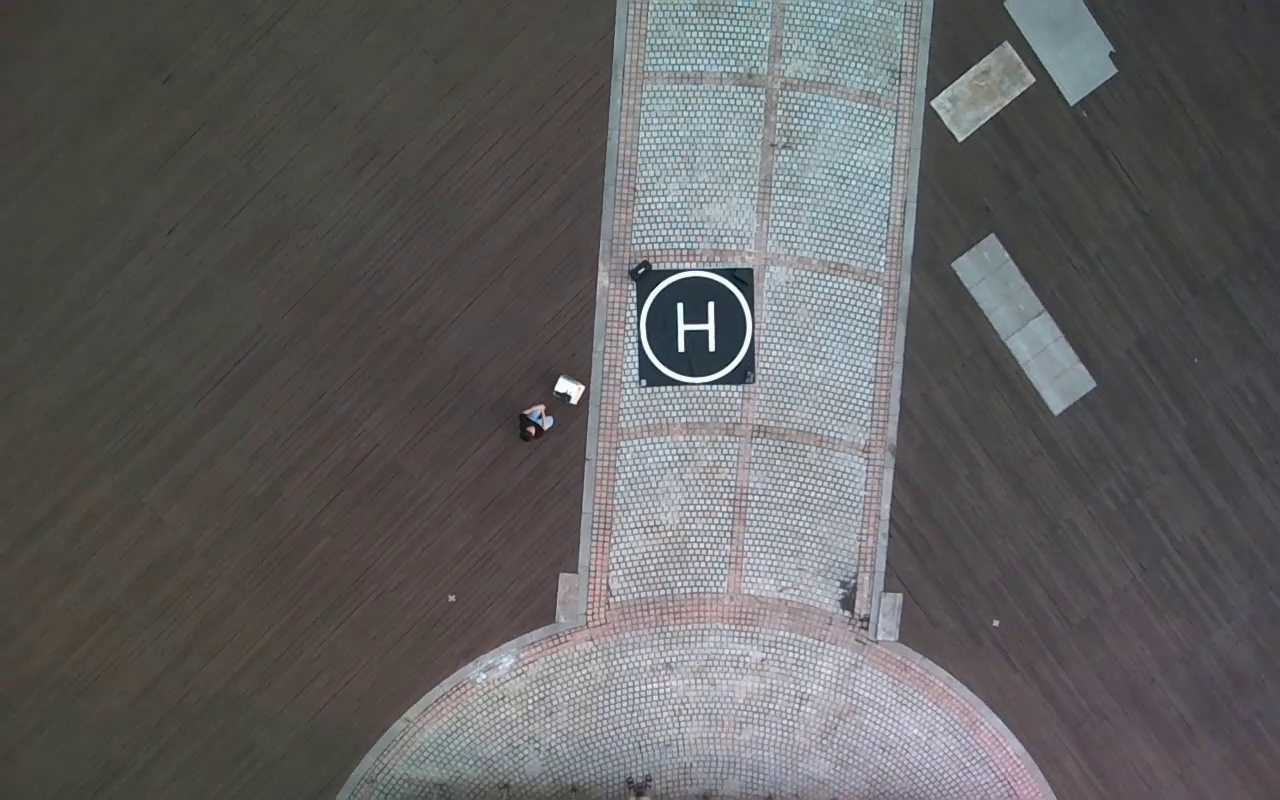H: (674, 300, 717, 354)
heliport: (641, 270, 754, 383)
